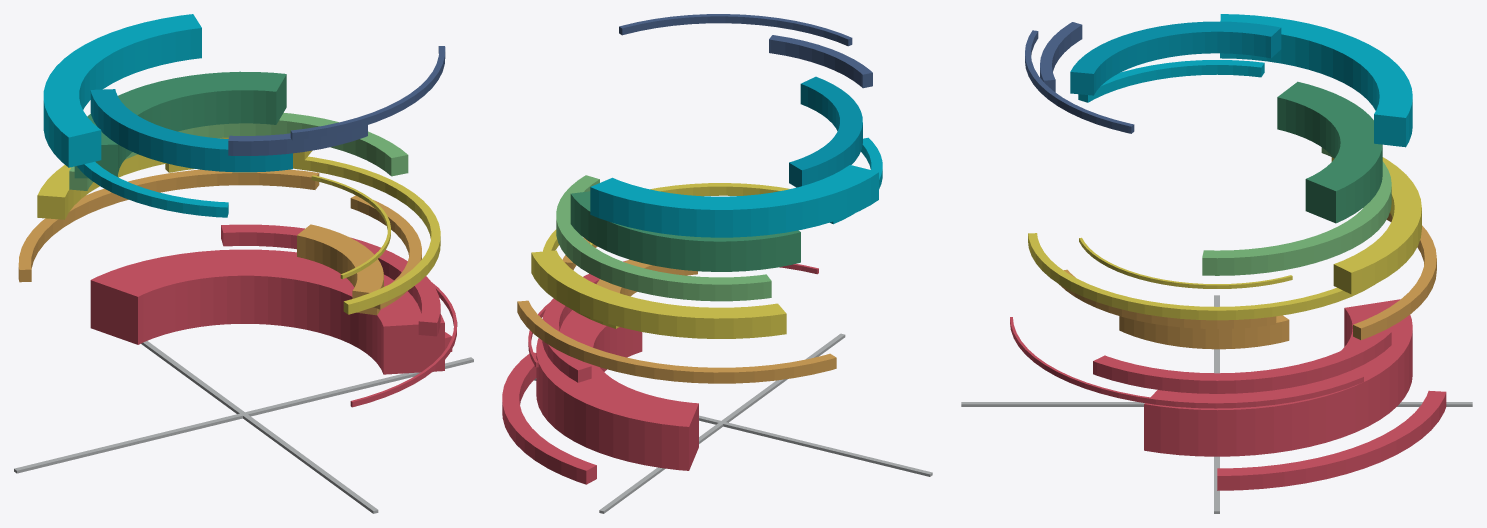
The model's file is ERI_render.glb.
3 views of the same model, side by side, from view 1: azimuth 30°, elevation 25°; view 2: azimuth 150°, elevation 25°; view 3: azimuth 270°, elevation 25° (orthographic). The views are drawn at different scales.
Visible parts, largest first — view 1: Mesh_Mesh_head_geo.001_lambert2SG.001; view 2: Mesh_Mesh_head_geo.001_lambert2SG.001; view 3: Mesh_Mesh_head_geo.001_lambert2SG.001.
Part boxes in pixels (x1=…): Mesh_Mesh_head_geo.001_lambert2SG.001: x1=14, y1=14, x2=473, y2=513; Mesh_Mesh_head_geo.001_lambert2SG.001: x1=502, y1=14, x2=932, y2=513; Mesh_Mesh_head_geo.001_lambert2SG.001: x1=961, y1=14, x2=1472, y2=513.
Size of the model in its own units: 170 by 130 by 170.
